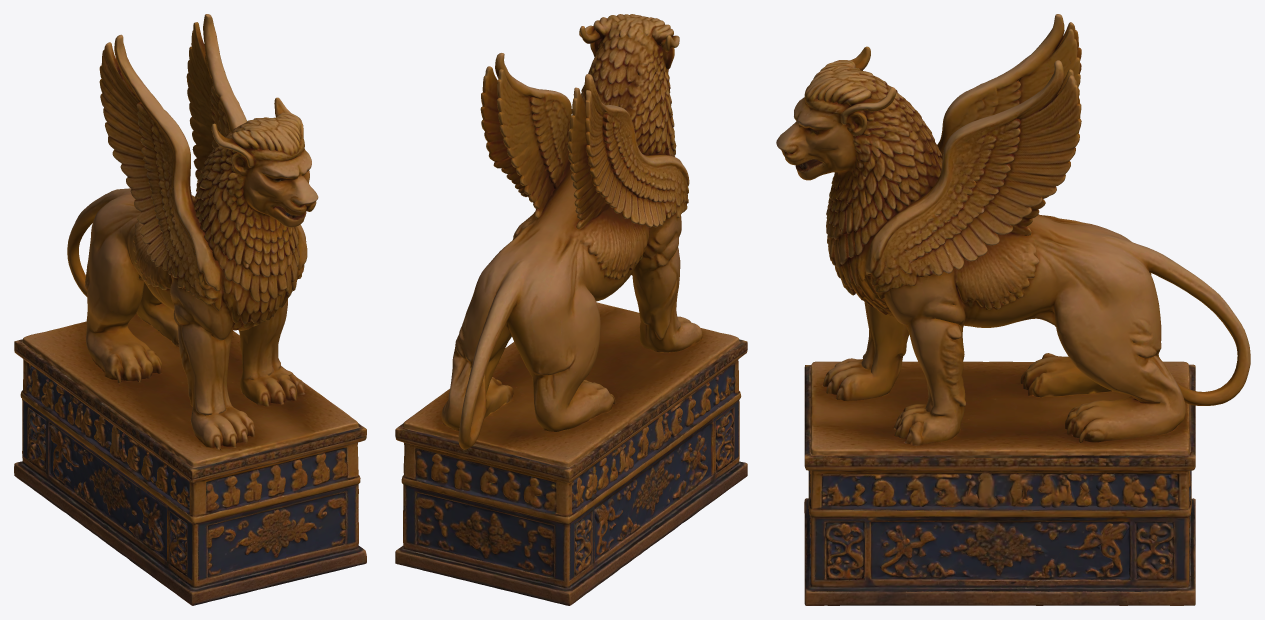
The model's file is lion_winged.glb.
3 renders of one model, left to right at view 1: azimuth 30°, elevation 25°; view 2: azimuth 150°, elevation 25°; view 3: azimuth 270°, elevation 25°, orthographic. The views are drawn at different scales.
Parts seen in each view (by area): view 1: geometry_0; view 2: geometry_0; view 3: geometry_0.
Boxes of the visible parts, x1,y1,x2,y2 form: geometry_0: [14, 14, 366, 605]; geometry_0: [395, 14, 747, 605]; geometry_0: [776, 14, 1250, 605].
Size of the model in its own units: 0.3853 by 0.9998 by 0.8238.
1 material, 1 textured.
